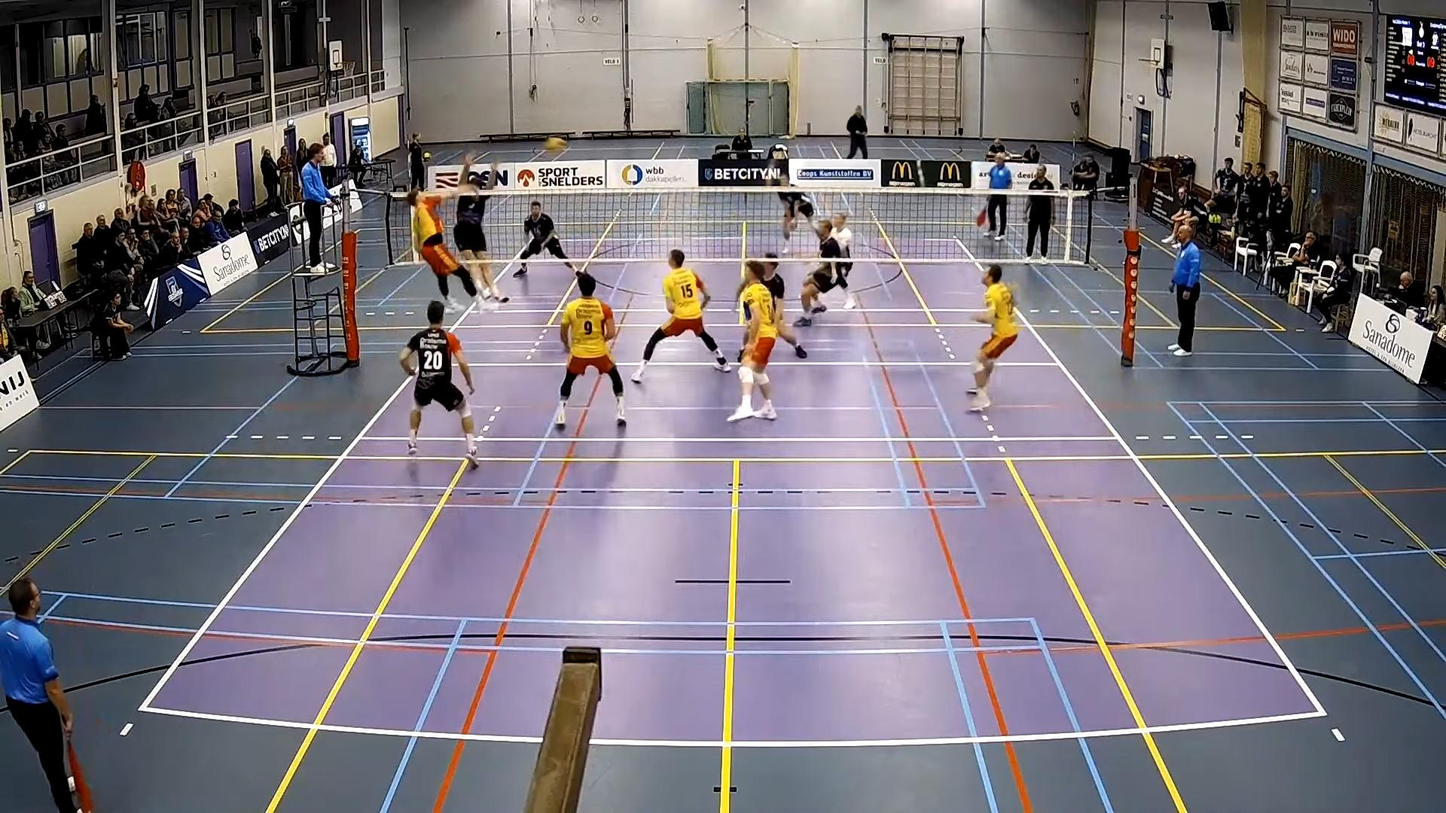attacco: (385, 181, 494, 314)
muro: (454, 147, 513, 312)
